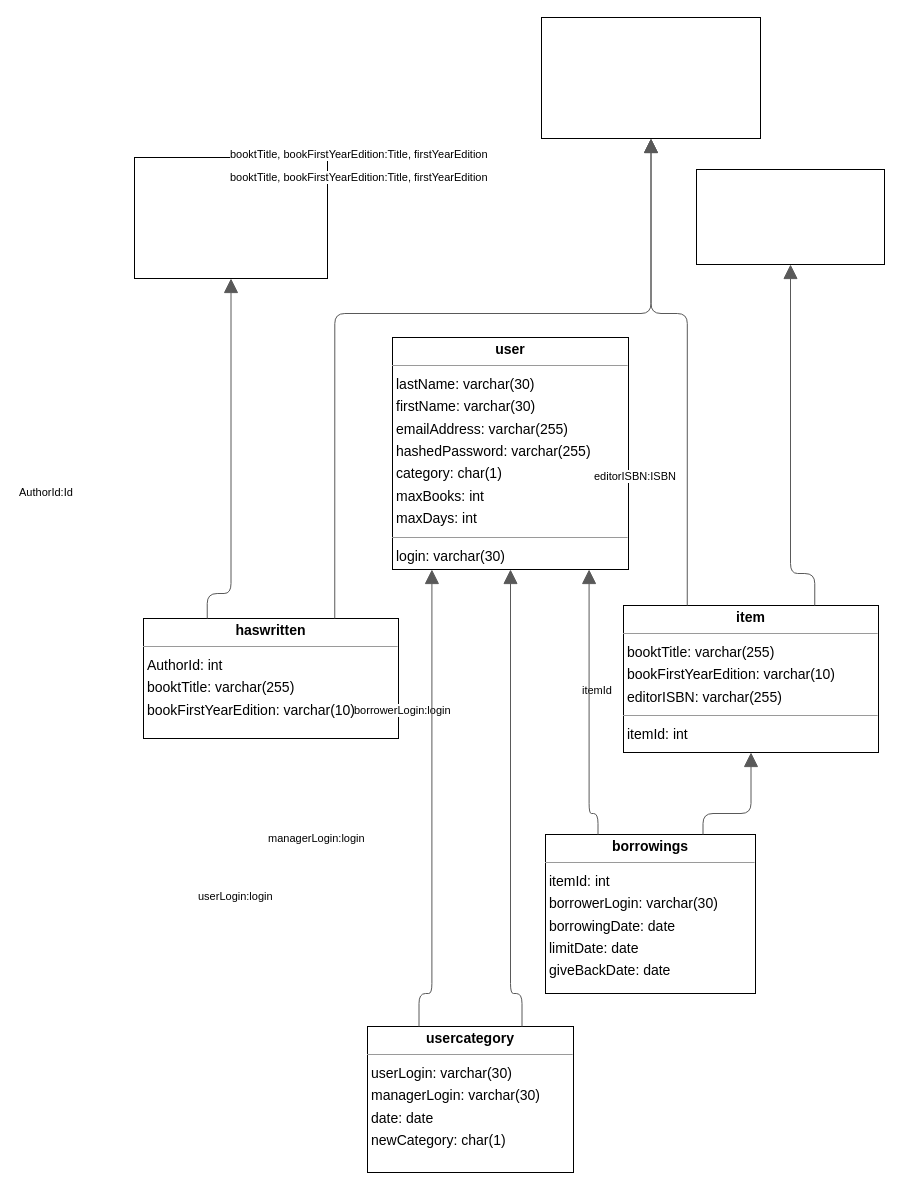
This 902x1190 diagram has some shape labels left out. The centre of each missing label's shape, as x and y in pixels:
"author authorName: varchar(50) birthdate: int Id: int" belongs at point (231, 217).
"book description: varchar(255) Title: varchar(255) firstYearEdition: varchar(10)" belongs at point (650, 77).
"editor editorName: varchar(30) ISBN: varchar(255)" belongs at point (790, 216).
